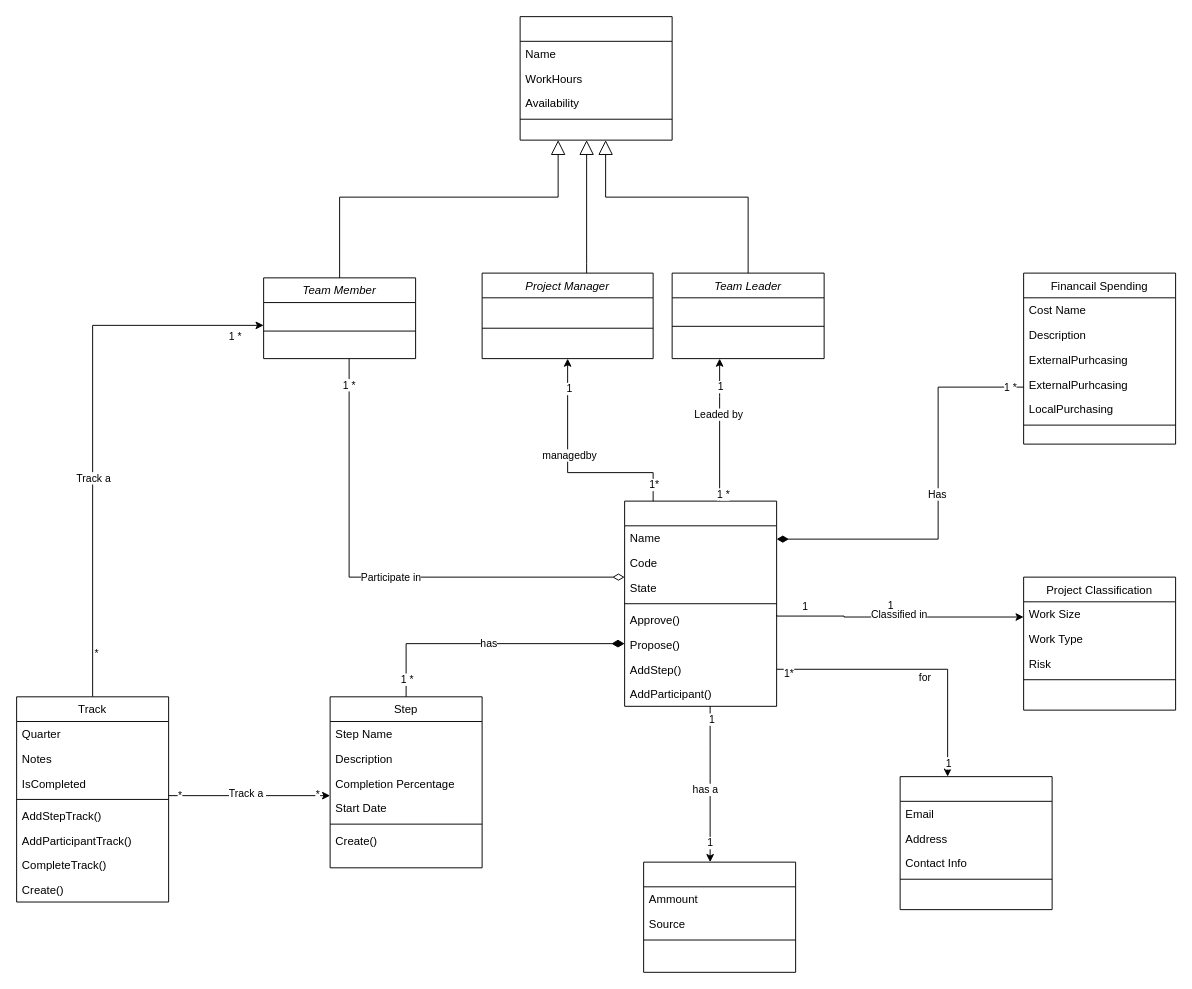
Image size: 1192x989. Some labels were removed from this diagram. The shapes that lost their labels are listed below. From the top down, each one's box as (x1, y1, x2, y2) in pixels, then its label:
(519, 16, 672, 140): Employee
(624, 500, 777, 706): Project
(899, 776, 1052, 910): Customer
(643, 861, 796, 972): Financing
